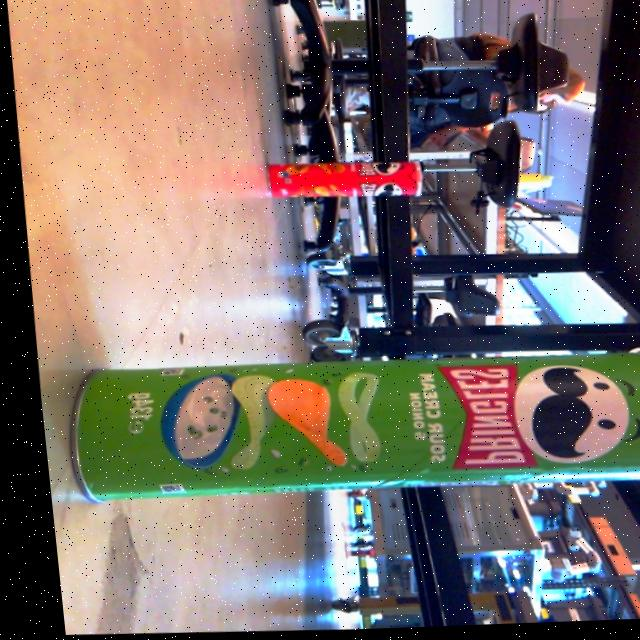greenpringles: (44, 334, 640, 521)
redpringles: (246, 157, 425, 215)
